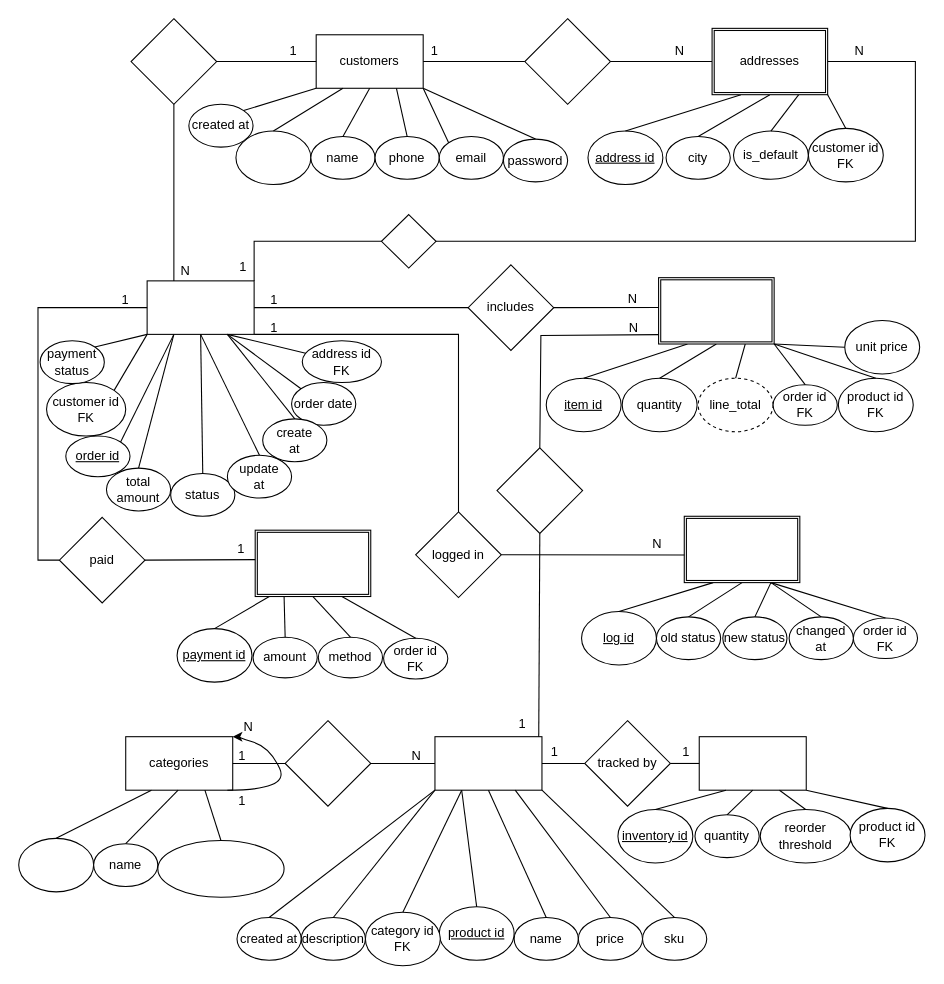
Some shapes in this 944 by 984 pixel diagram are drawn without their labels. Here are the shapes that lost their labels. From the top down, the centre of each, then its label:
At point (173, 61): "places".
At point (567, 61): "has".
At point (273, 157): "customer id".
At point (408, 240): "ships to".
At point (200, 307): "orders".
At point (716, 310): "order items".
At point (539, 490): "appears in".
At point (312, 563): "payments".
At point (741, 549): "order status log".
At point (327, 763): "contains".
At point (488, 763): "products".
At point (752, 763): "inventory".
At point (56, 864): "category id".
At point (220, 868): "parent category id FK".
